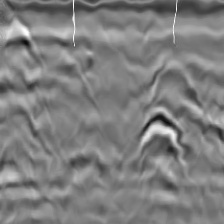Utility: (0, 25, 45, 96), (139, 106, 190, 166), (147, 55, 197, 102)
